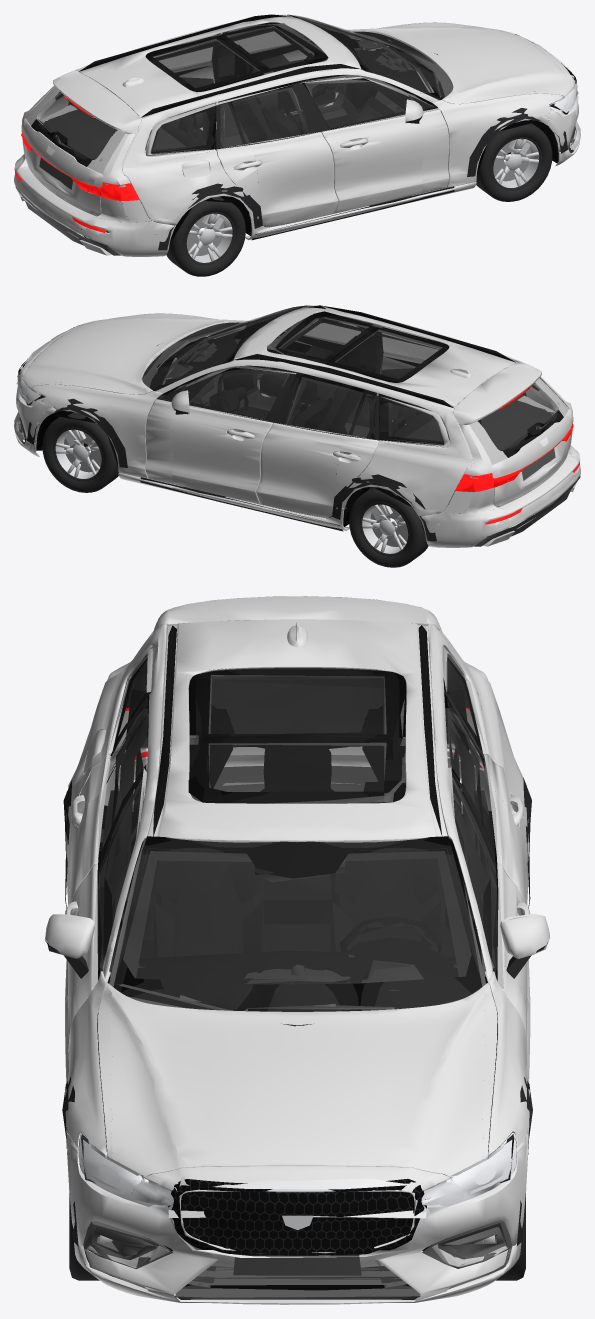
The model's file is subaro_outbuck.glb.
3 renders of one model, top to bottom at view 1: azimuth 30°, elevation 25°; view 2: azimuth 150°, elevation 25°; view 3: azimuth 270°, elevation 25°, orthographic. The views are drawn at different scales.
Parts seen in each view (by area): view 1: liner_trim, part_glass, part_roof, part_hood, part_door_fr, part_fender_fr, part_quarter_rr, part_door_rr, part_trunk, part_rear_bumper, wheel_rr, wheel_fr (+5 smaller); view 2: liner_trim, part_glass, part_roof, part_hood, part_door_fl, part_fender_fl, part_quarter_rl, part_door_rl, part_trunk, part_rear_bumper, wheel_rl, wheel_fl (+5 smaller); view 3: liner_trim, part_glass, part_hood, part_roof, part_front_bumper, core, part_fender_fl, part_fender_fr, part_quarter_rl, part_quarter_rr, headlight_r, headlight_l (+7 smaller).
Boxes of the visible parts, bbox=[...] form: liner_trim: bbox=[15, 14, 578, 255]; part_glass: bbox=[26, 15, 444, 173]; part_roof: bbox=[33, 14, 418, 168]; part_hood: bbox=[323, 23, 575, 98]; part_door_fr: bbox=[325, 116, 422, 220]; part_fender_fr: bbox=[417, 55, 574, 200]; part_quarter_rr: bbox=[100, 145, 258, 239]; part_door_rr: bbox=[249, 131, 333, 237]; part_trunk: bbox=[22, 72, 148, 222]; part_rear_bumper: bbox=[14, 155, 181, 256]; wheel_rr: bbox=[166, 196, 245, 276]; wheel_fr: bbox=[476, 123, 552, 201]; liner_trim: bbox=[16, 305, 580, 546]; part_glass: bbox=[150, 306, 568, 464]; part_roof: bbox=[176, 305, 561, 459]; part_hood: bbox=[19, 314, 242, 389]; part_door_fl: bbox=[172, 407, 269, 511]; part_fender_fl: bbox=[20, 346, 179, 491]; part_quarter_rl: bbox=[336, 436, 494, 530]; part_door_rl: bbox=[261, 422, 345, 528]; part_trunk: bbox=[444, 363, 572, 513]; part_rear_bumper: bbox=[413, 446, 580, 547]; wheel_rl: bbox=[349, 487, 428, 567]; wheel_fl: bbox=[42, 412, 118, 492]; liner_trim: bbox=[45, 625, 548, 1299]; part_glass: bbox=[97, 657, 497, 1011]; part_hood: bbox=[109, 925, 485, 1197]; part_roof: bbox=[107, 596, 487, 942]; part_front_bumper: bbox=[67, 1143, 527, 1304]; core: bbox=[168, 1178, 426, 1255]; part_fender_fl: bbox=[336, 931, 530, 1184]; part_fender_fr: bbox=[65, 931, 233, 1184]; part_quarter_rl: bbox=[448, 662, 528, 905]; part_quarter_rr: bbox=[66, 664, 129, 905]; headlight_r: bbox=[78, 1132, 173, 1242]; headlight_l: bbox=[421, 1132, 516, 1242].
Bounding box in the file's own units: 4.88 × 1.48 × 2.08.
Materials: 28 (1 with a texture image).
